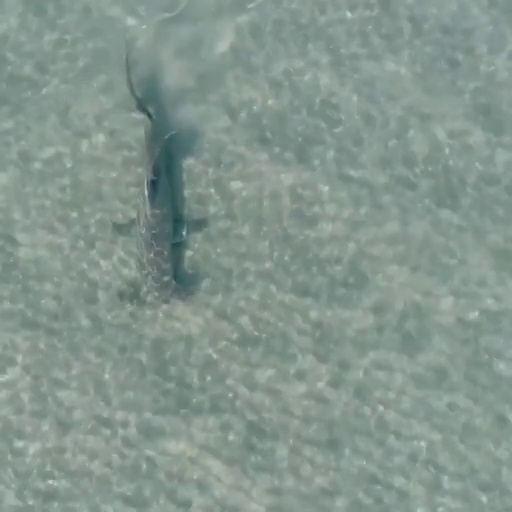shark: (106, 33, 211, 307)
